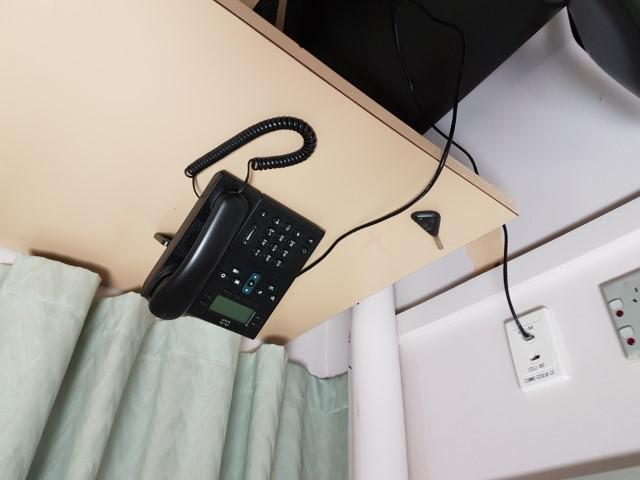key: (412, 211, 443, 249)
